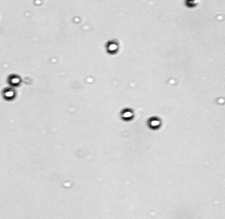Dead Cell: (186, 1, 199, 7)
Living Cell: (1, 87, 16, 101), (105, 40, 120, 54), (148, 116, 162, 130), (120, 108, 134, 121), (8, 74, 21, 86)
